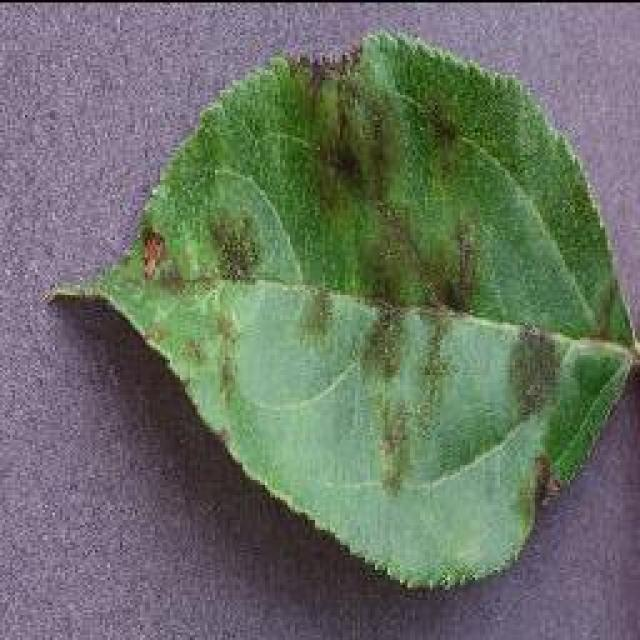apple scab disease: (48, 25, 638, 593)
